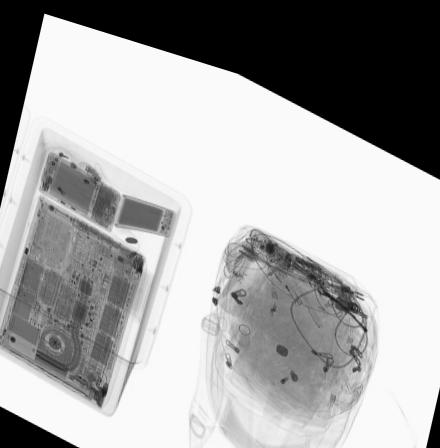Lighter: (268, 248, 304, 288)
